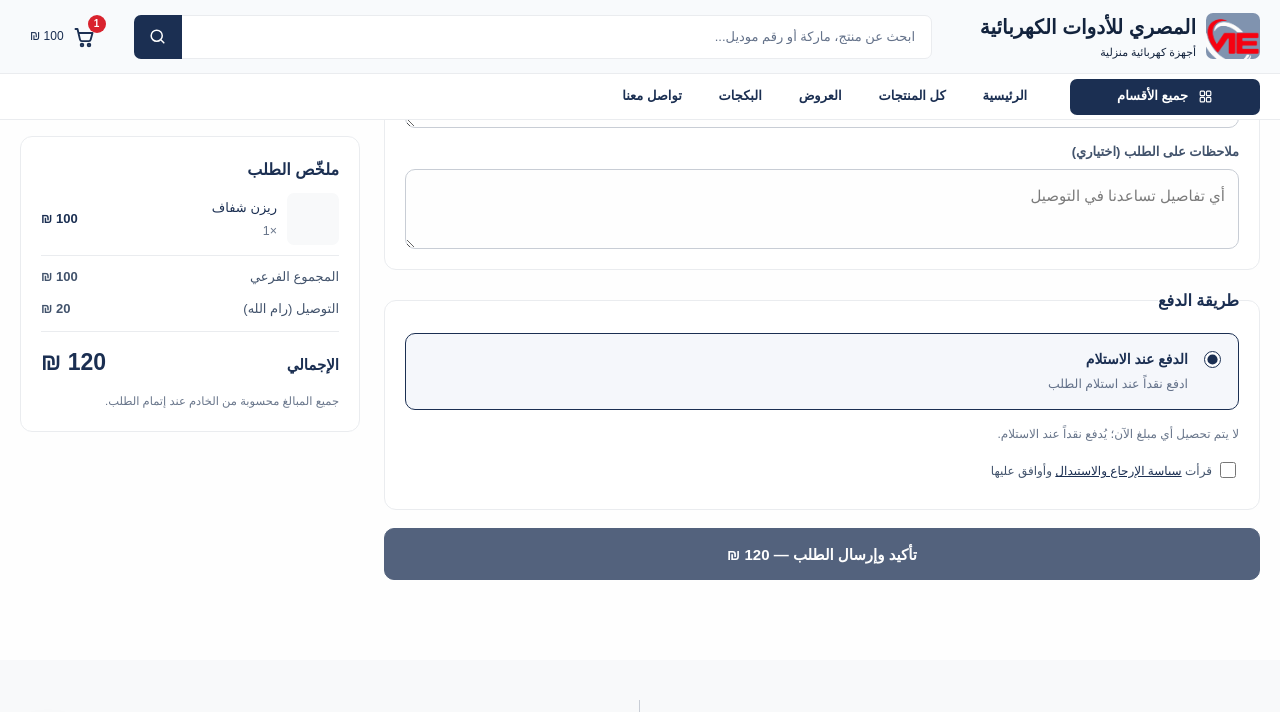
Test: public storefront › blocks checkout until the customer fields are valid
(page scrolled)
Step 1. Click the checkbox → x=1228, y=470, box [1220,462,1236,478]
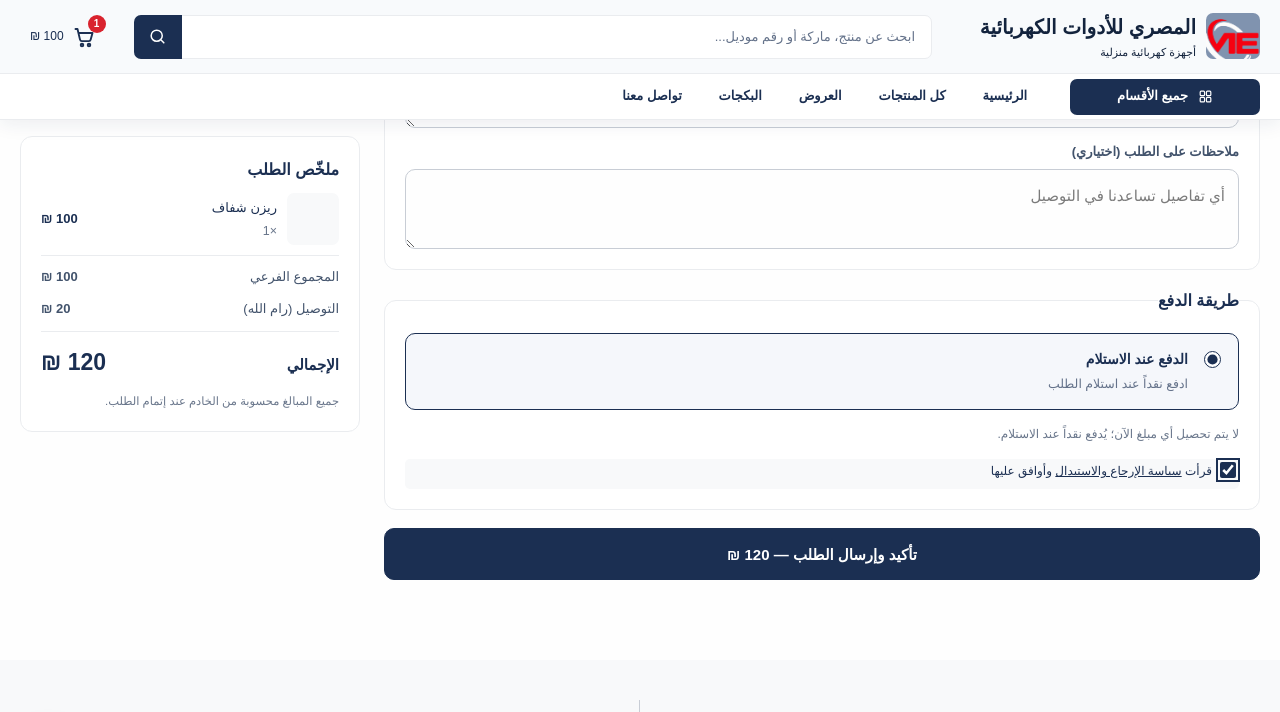
Step 2. Click the button "تأكيد وإرسال الطلب — 120 ₪" → x=822, y=554, box [384,528,1260,580]
(page scrolled)
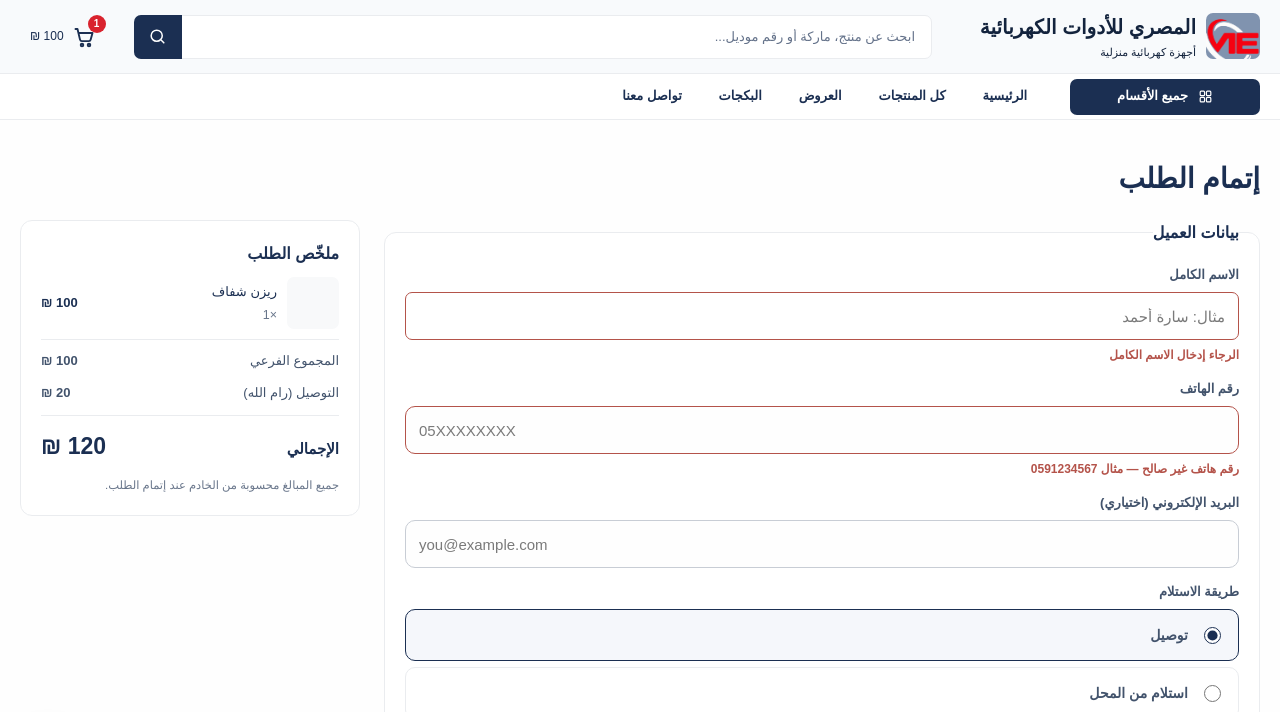
Expected: the text "رقم هاتف غير صالح — مثال 0591234567" is shown, [1031,462,1239,476]
